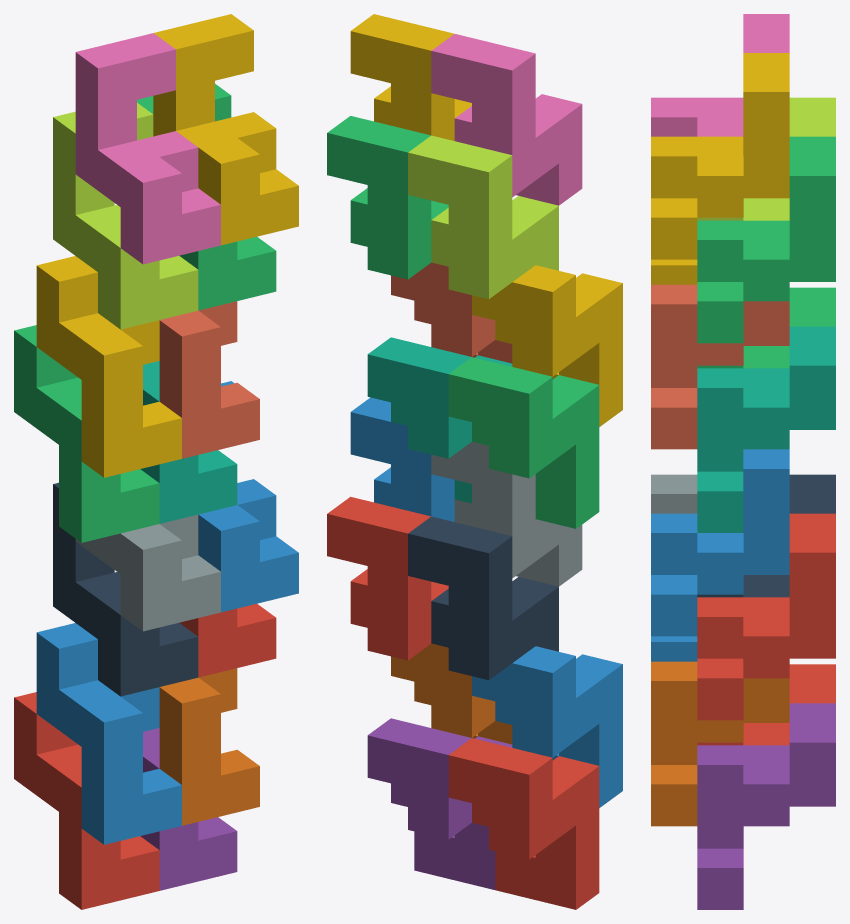
File: tiling.obj
3 views of the same model, side by side, from view 1: azimuth 30°, elevation 25°; view 2: azimuth 150°, elevation 25°; view 3: azimuth 270°, elevation 25° (orthographic). The views are drawn at different scales.
Visible parts, largest first — view 1: copy_2_domain_4, copy_1_domain_2, copy_1_domain_4, copy_2_domain_8, copy_2_domain_3, copy_1_domain_3, copy_1_domain_1, copy_2_domain_1, copy_1_domain_8, copy_1_domain_6, copy_2_domain_2, copy_2_domain_6 (+4 smaller); view 2: copy_1_domain_1, copy_1_domain_3, copy_2_domain_1, copy_2_domain_3, copy_2_domain_4, copy_1_domain_2, copy_1_domain_4, copy_1_domain_5, copy_2_domain_7, copy_2_domain_5, copy_2_domain_2, copy_2_domain_8 (+4 smaller); view 3: copy_2_domain_5, copy_2_domain_7, copy_2_domain_8, copy_1_domain_5, copy_1_domain_7, copy_2_domain_6, copy_1_domain_6, copy_1_domain_8, copy_2_domain_4, copy_1_domain_1, copy_1_domain_3, copy_2_domain_1 (+4 smaller).
Part boxes in pixels (x1=…): copy_2_domain_4: x1=75, y1=33, x2=220, y2=264; copy_1_domain_2: x1=36, y1=623, x2=181, y2=844; copy_1_domain_4: x1=36, y1=256, x2=181, y2=477; copy_2_domain_8: x1=153, y1=14, x2=298, y2=245; copy_2_domain_3: x1=53, y1=103, x2=198, y2=329; copy_1_domain_3: x1=14, y1=325, x2=159, y2=542; copy_1_domain_1: x1=14, y1=692, x2=159, y2=909; copy_2_domain_1: x1=53, y1=482, x2=198, y2=696; copy_1_domain_8: x1=159, y1=301, x2=259, y2=458; copy_1_domain_6: x1=159, y1=668, x2=259, y2=825; copy_2_domain_2: x1=75, y1=514, x2=220, y2=631; copy_2_domain_6: x1=198, y1=381, x2=298, y2=612; copy_1_domain_1: x1=448, y1=738, x2=599, y2=909; copy_1_domain_3: x1=448, y1=357, x2=599, y2=528; copy_2_domain_1: x1=408, y1=516, x2=558, y2=680; copy_2_domain_3: x1=408, y1=135, x2=558, y2=299; copy_2_domain_4: x1=431, y1=34, x2=582, y2=205; copy_1_domain_2: x1=472, y1=646, x2=622, y2=807; copy_1_domain_4: x1=472, y1=265, x2=622, y2=426; copy_1_domain_5: x1=367, y1=718, x2=512, y2=889; copy_2_domain_7: x1=327, y1=116, x2=448, y2=279; copy_2_domain_5: x1=327, y1=496, x2=448, y2=660; copy_2_domain_2: x1=431, y1=442, x2=582, y2=586; copy_2_domain_8: x1=350, y1=14, x2=471, y2=140; copy_2_domain_5: x1=697, y1=513, x2=835, y2=720; copy_2_domain_7: x1=697, y1=136, x2=835, y2=343; copy_2_domain_8: x1=651, y1=53, x2=789, y2=259; copy_1_domain_5: x1=697, y1=703, x2=835, y2=909; copy_1_domain_7: x1=697, y1=326, x2=835, y2=532; copy_2_domain_6: x1=651, y1=449, x2=789, y2=636; copy_1_domain_6: x1=651, y1=661, x2=789, y2=826; copy_1_domain_8: x1=651, y1=284, x2=789, y2=449; copy_2_domain_4: x1=651, y1=14, x2=789, y2=136; copy_1_domain_1: x1=697, y1=664, x2=835, y2=745; copy_1_domain_3: x1=697, y1=287, x2=835, y2=368; copy_2_domain_1: x1=697, y1=474, x2=835, y2=597.
Bounding box in the file's own units: 5 × 20 × 4.
